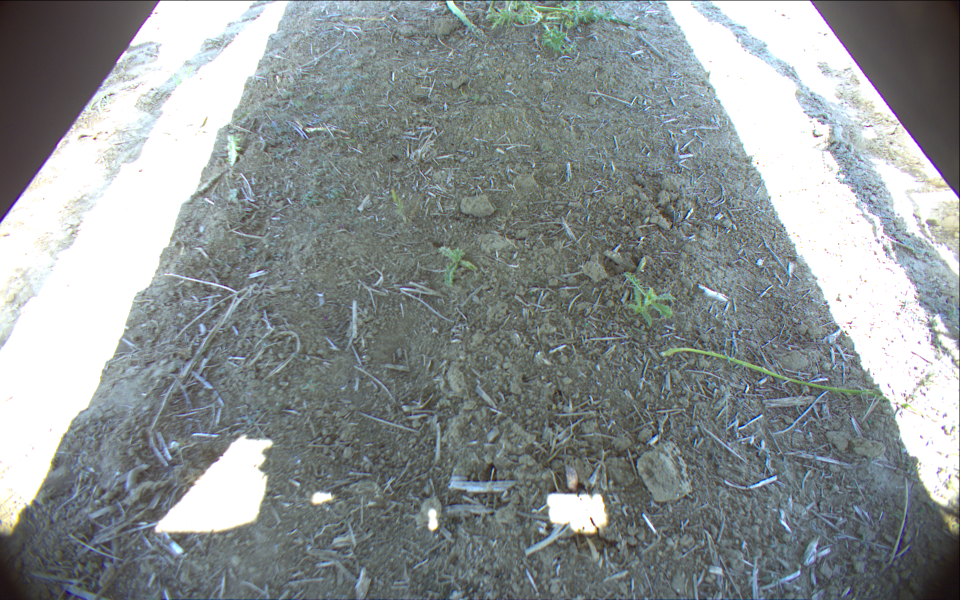aspa: (659, 345, 889, 401), (533, 4, 648, 29), (446, 1, 485, 40)
